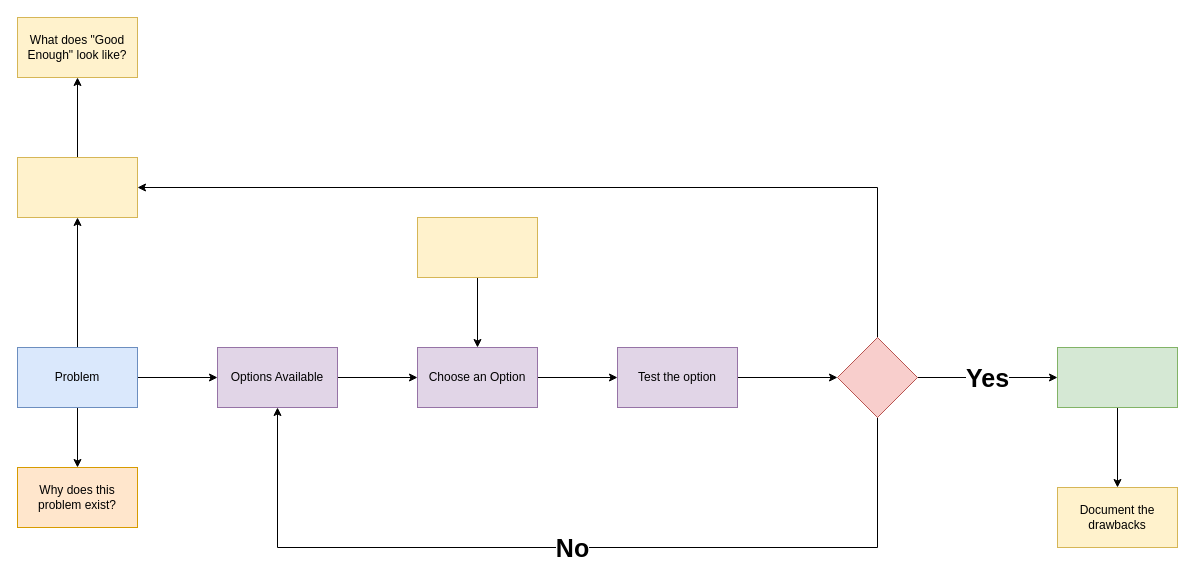
Some shapes in this 1195 by 580 pixel diagram are drawn without their labels. Each missing label, with the box of its shape:
Crit Reason for the selected option: (416, 216, 538, 278)
Expected Outcome: (16, 156, 138, 218)
Outcome Matched: (836, 336, 918, 418)
Use the pipeline: (1056, 346, 1178, 408)
